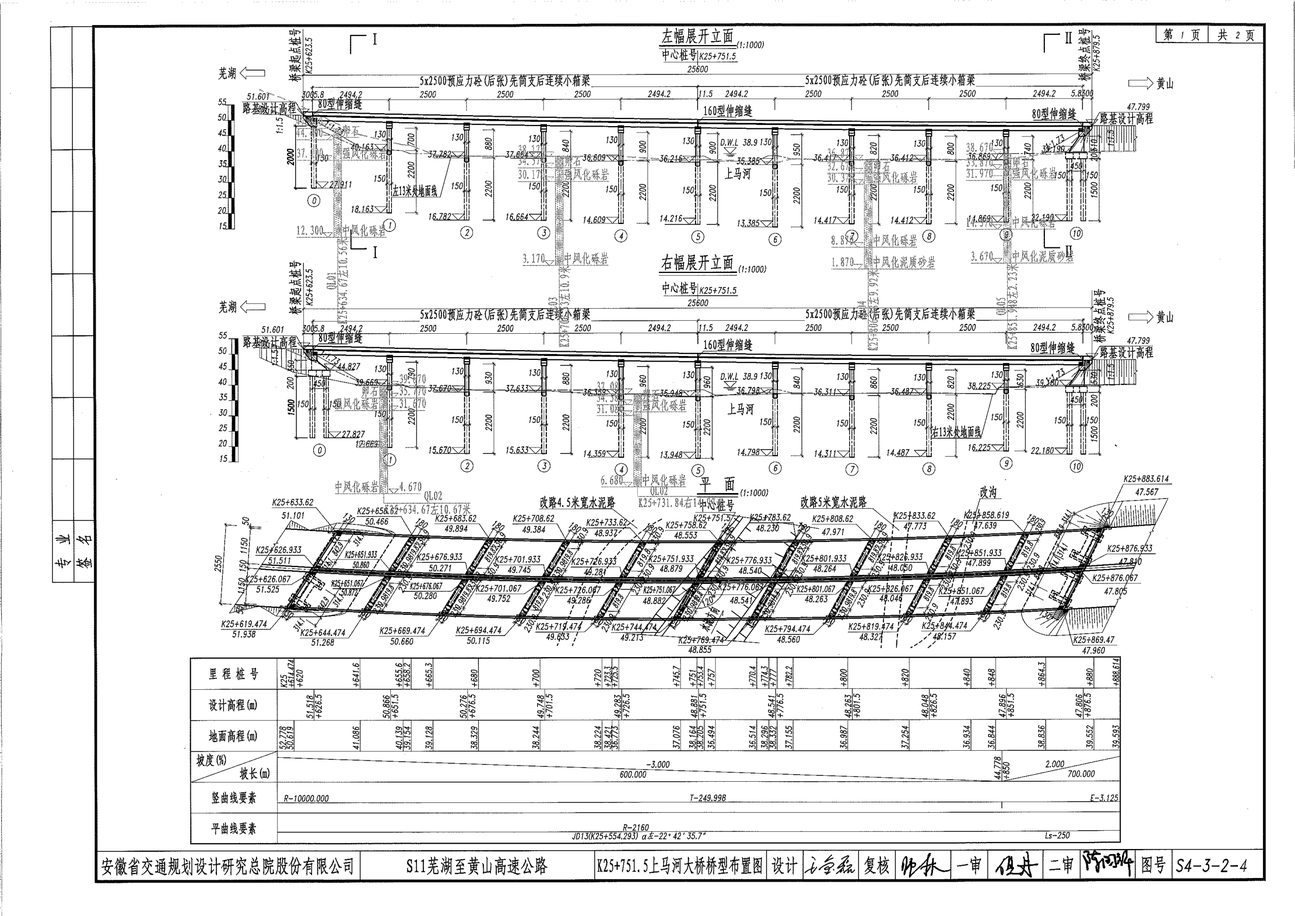A: (198, 247, 1191, 491), (197, 18, 1186, 250)
